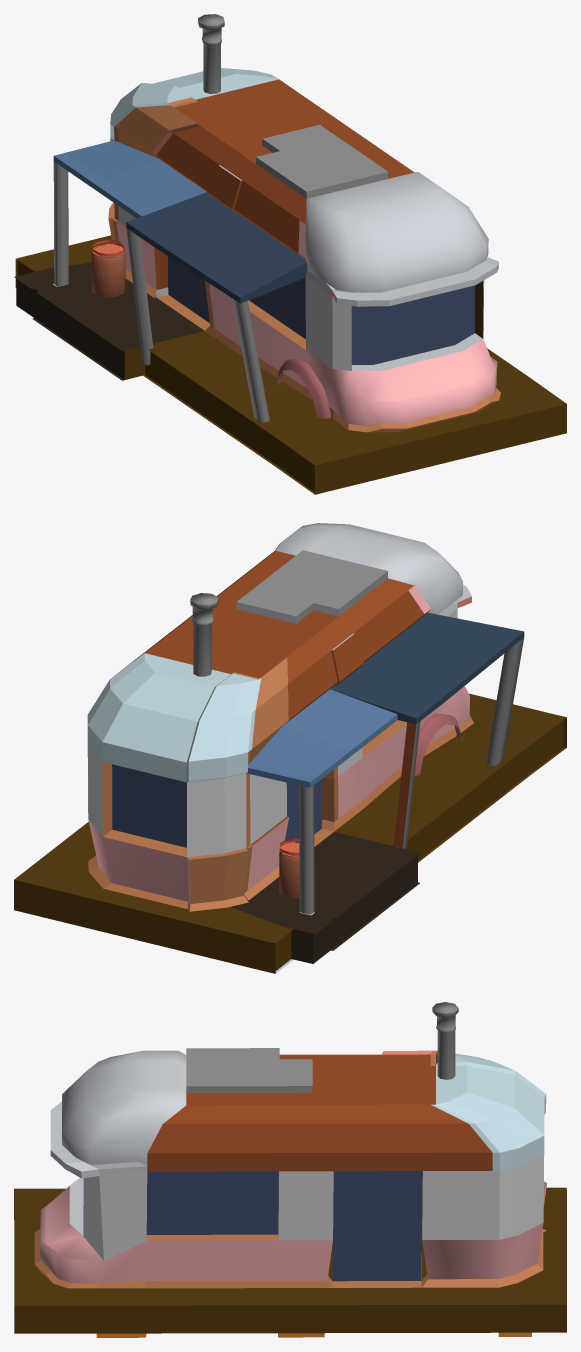
File: bushouse.fbx
The picture shows the model from 3 angles, top to bottom: view 1: azimuth 30°, elevation 25°; view 2: azimuth 150°, elevation 25°; view 3: azimuth 270°, elevation 25°; orthographic projection. The views are drawn at different scales.
Visible parts, largest first — view 1: Cube.011; view 2: Cube.011; view 3: Cube.011.
Boxes of the visible parts, box(x1,y1,x2,y2) form: Cube.011: box(14, 14, 566, 494); Cube.011: box(14, 523, 566, 973); Cube.011: box(14, 1002, 566, 1337).
Bounding box in the file's own units: 138 × 139 × 246.
